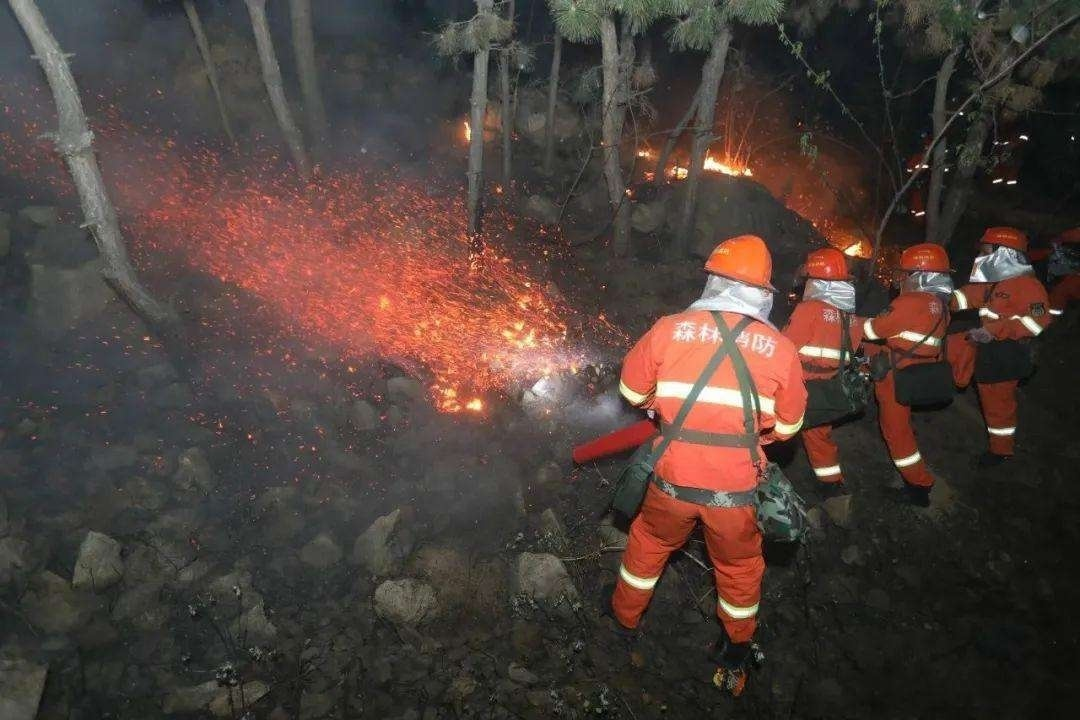fire: (134, 137, 578, 438), (636, 143, 757, 180)
